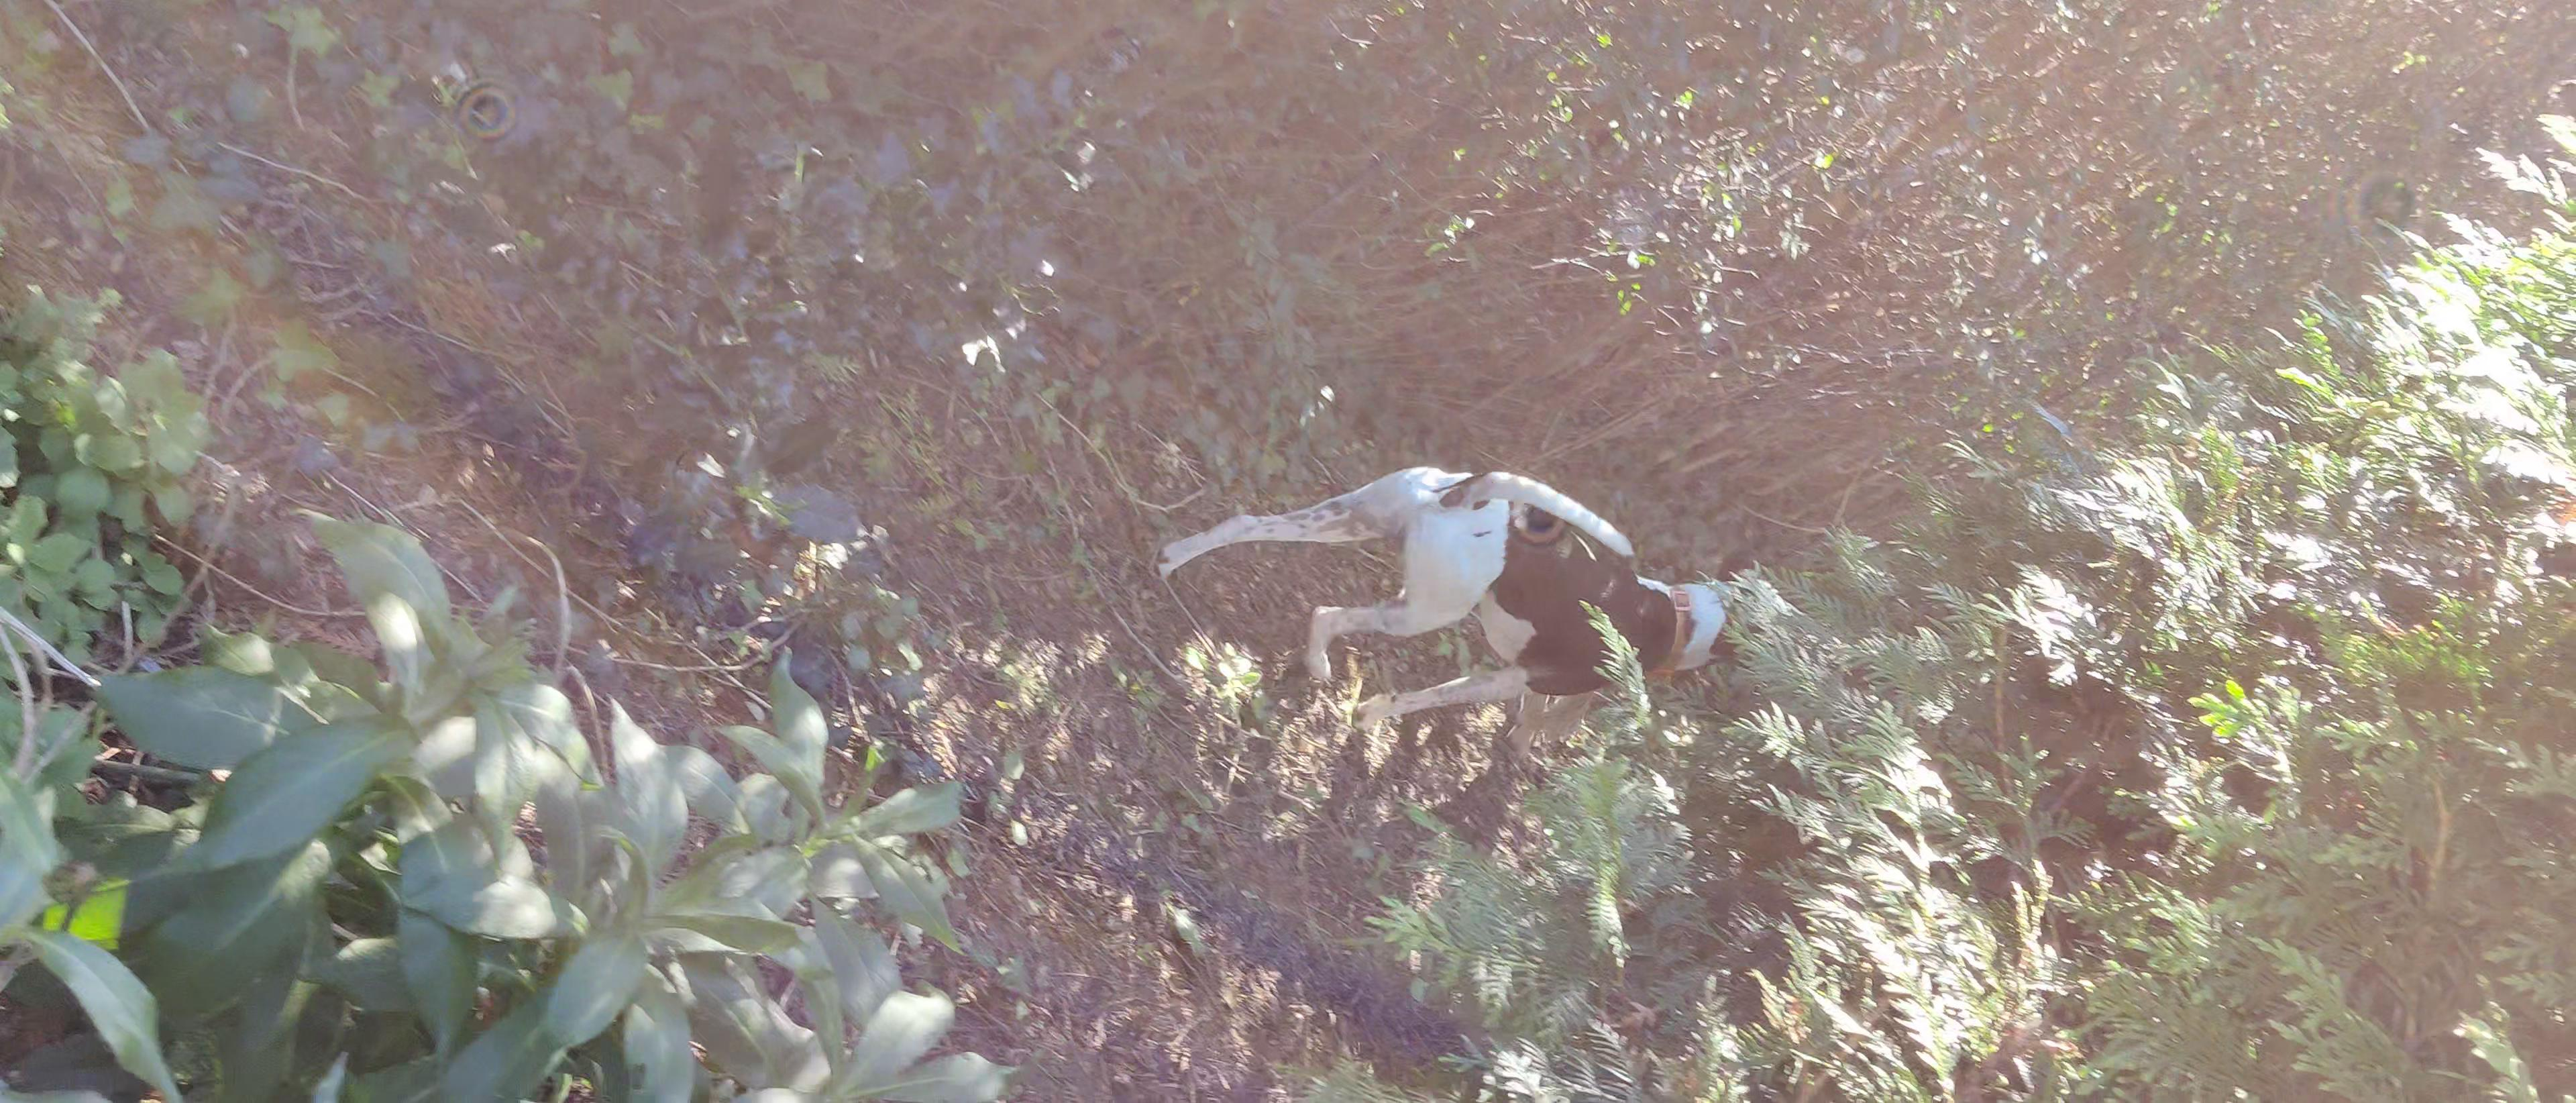Dog: (1152, 460, 1771, 731)
